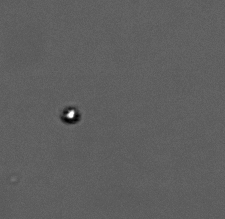Living Cell: (61, 106, 79, 124)
